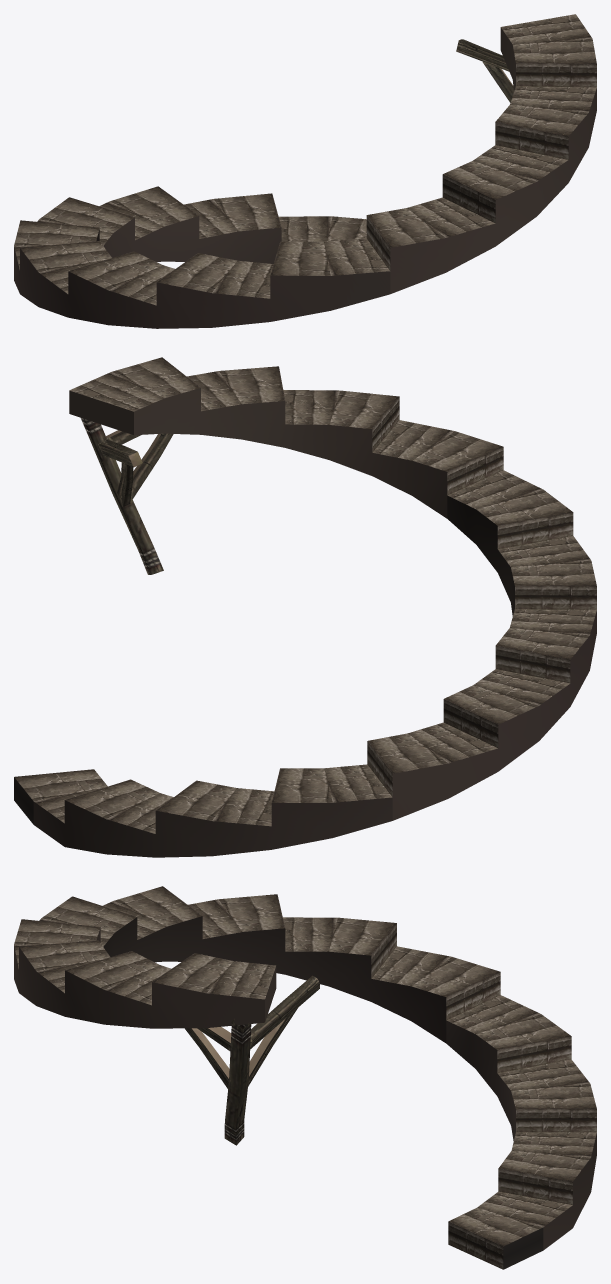
The model's file is HD_YuYanZheZhiTa_002_01.FBX.
3 views of the same model, one above another, from view 1: azimuth 30°, elevation 25°; view 2: azimuth 150°, elevation 25°; view 3: azimuth 270°, elevation 25° (orthographic).
Parts seen in each view (by area): view 1: HD_YuYanZheZhiTa_002_01; view 2: HD_YuYanZheZhiTa_002_01; view 3: HD_YuYanZheZhiTa_002_01.
Boxes of the visible parts, x1,y1,x2,y2 form: HD_YuYanZheZhiTa_002_01: (14,14,596,328); HD_YuYanZheZhiTa_002_01: (14,357,596,857); HD_YuYanZheZhiTa_002_01: (14,886,596,1269).
Bounding box in the file's own units: 7604 × 4344 × 7602.
